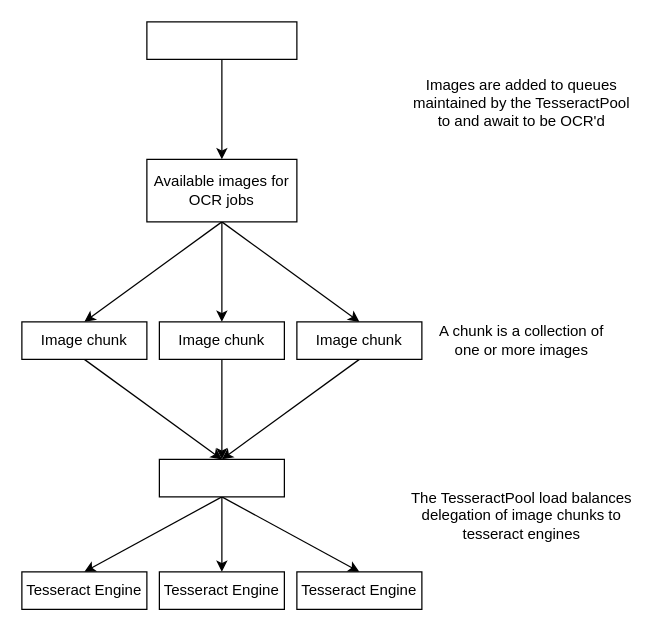
Image size: 663x631. Some labels were removed from this diagram. Each missing label, with the centre of its shape:
"Input: Image" belongs at point 221,40.
"TesseractPool" belongs at point 221,477.
